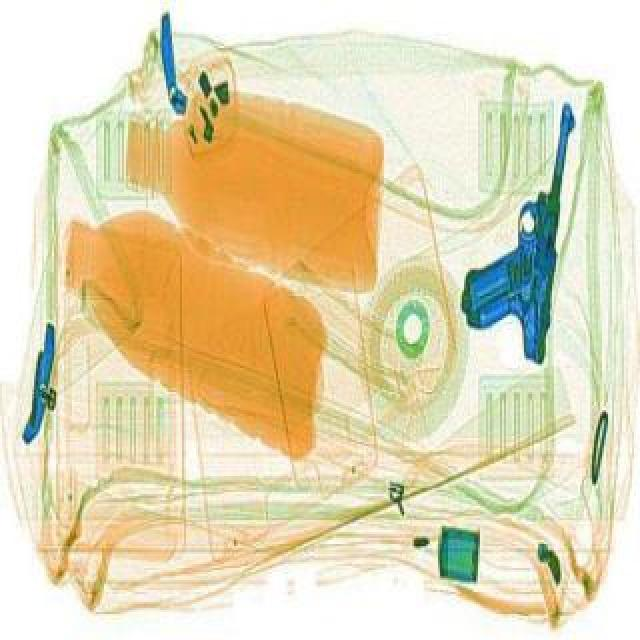gun: (454, 92, 578, 360)
